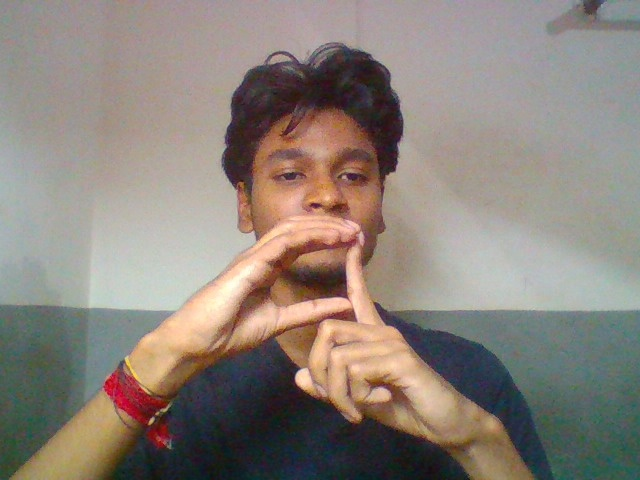D: (150, 205, 517, 449)
